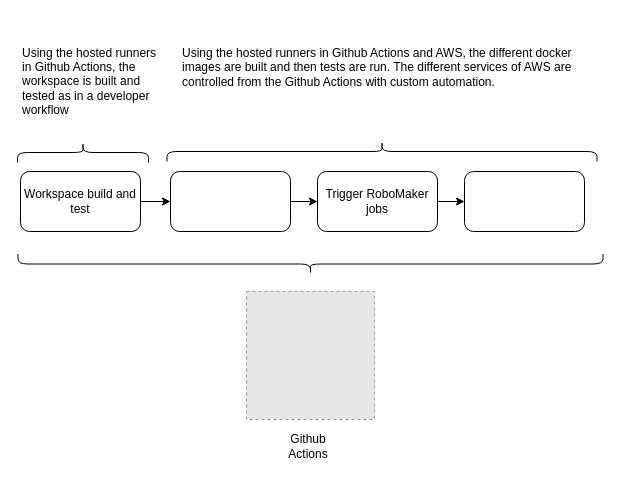
Image size: 621x478. Some labels were removed from this diagram. Grey dashed boxes stand in for pictures. The shapes that lost their labels are listed below. From the top down, each one's centre as x and y in pixels, then its label:
At pixel 230 201: "Docker image build".
At pixel 524 201: "Process sim job results".
